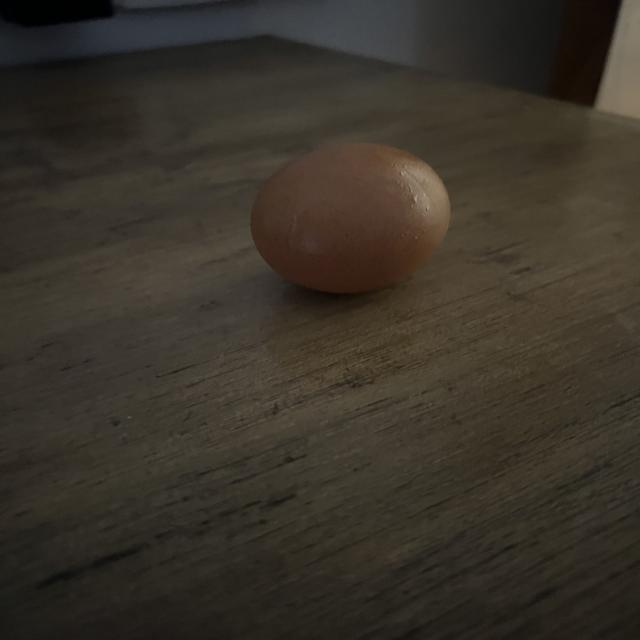Egg: (249, 137, 460, 295)
